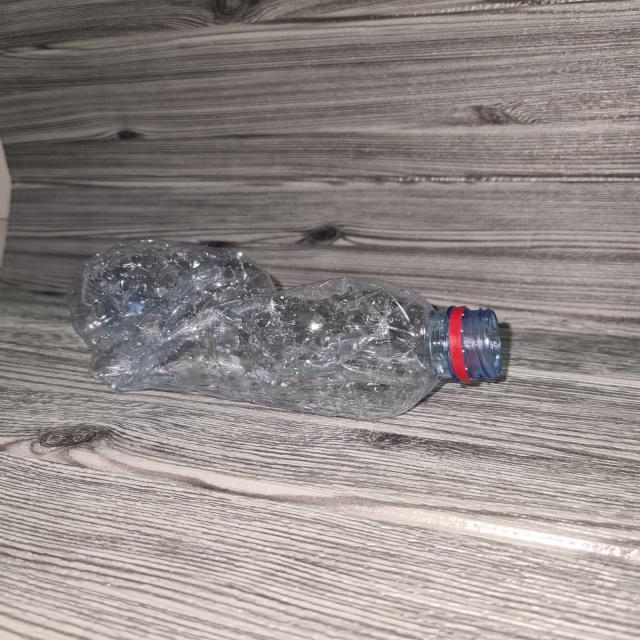chai: (69, 239, 502, 419)
